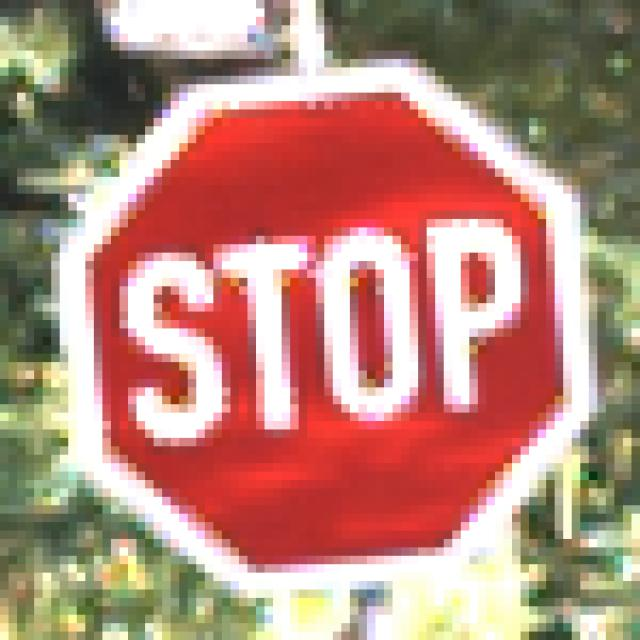STOP: (61, 60, 590, 590)
